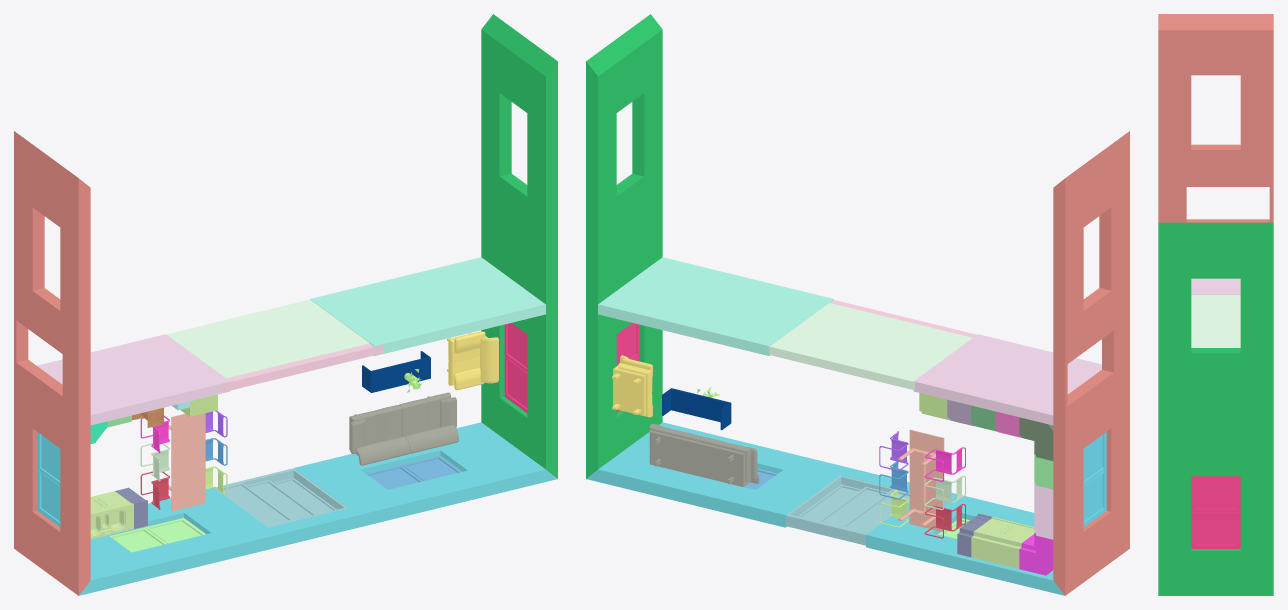
File: space0.gltf
3 views of the same model, side by side, from view 1: azimuth 30°, elevation 25°; view 2: azimuth 150°, elevation 25°; view 3: azimuth 270°, elevation 25° (orthographic). The views are drawn at different scales.
Size of the model in its own units: 600 by 500 by 140.
